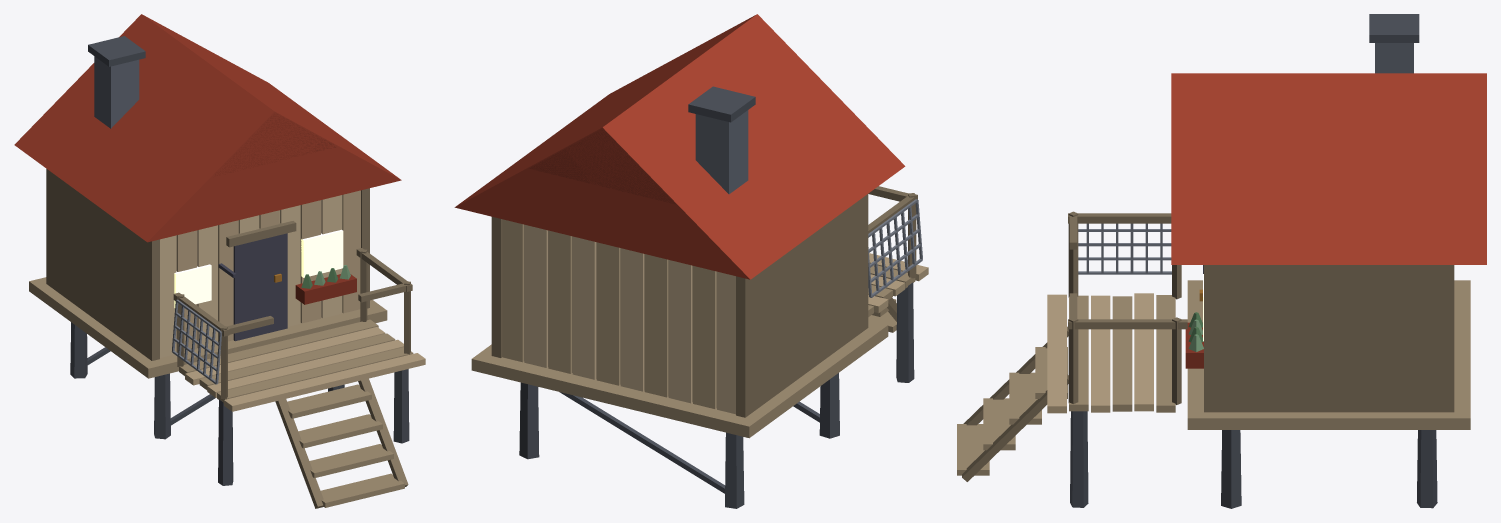
Rendered from house_porch.glb.
3 renders of one model, left to right at view 1: azimuth 30°, elevation 25°; view 2: azimuth 150°, elevation 25°; view 3: azimuth 270°, elevation 25°, orthographic. The views are drawn at different scales.
Parts seen in each view (by area): view 1: coal_d10, driftwood_d35, driftwood_d20, driftwood_d8, driftwood_l5, slate_d30, ink_l20, kindle_glow, slate_d10, coal_d25, slate_l10; view 2: coal_d10, driftwood_d35, driftwood_d8, driftwood_l5, driftwood_d20, slate_d30, coal_d25, slate_d10, slate_l10; view 3: coal_d10, driftwood_d35, driftwood_d20, driftwood_d8, slate_d30, slate_l10, slate_d10.
Part boxes in pixels (x1=…): coal_d10: x1=14, y1=14, x2=401, y2=242; driftwood_d35: x1=46, y1=169, x2=412, y2=508; driftwood_d20: x1=29, y1=277, x2=413, y2=507; driftwood_d8: x1=176, y1=190, x2=425, y2=411; driftwood_l5: x1=160, y1=195, x2=342, y2=357; slate_d30: x1=70, y1=36, x2=409, y2=485; ink_l20: x1=218, y1=233, x2=287, y2=341; kindle_glow: x1=174, y1=229, x2=343, y2=307; slate_d10: x1=94, y1=56, x2=139, y2=128; coal_d25: x1=215, y1=114, x2=356, y2=304; slate_l10: x1=172, y1=299, x2=221, y2=384; coal_d10: x1=454, y1=14, x2=905, y2=279; driftwood_d35: x1=491, y1=186, x2=917, y2=417; driftwood_d8: x1=502, y1=219, x2=928, y2=408; driftwood_l5: x1=524, y1=224, x2=735, y2=414; driftwood_d20: x1=471, y1=265, x2=915, y2=438; slate_d30: x1=519, y1=86, x2=914, y2=508; coal_d25: x1=529, y1=129, x2=675, y2=204; slate_d10: x1=695, y1=110, x2=748, y2=194; slate_l10: x1=868, y1=199, x2=922, y2=297; coal_d10: x1=1171, y1=73, x2=1486, y2=264; driftwood_d35: x1=962, y1=211, x2=1454, y2=481; driftwood_d20: x1=957, y1=280, x2=1470, y2=475; driftwood_d8: x1=1047, y1=293, x2=1153, y2=413; slate_d30: x1=1070, y1=14, x2=1437, y2=508; slate_l10: x1=1078, y1=223, x2=1171, y2=274; slate_d10: x1=1375, y1=43, x2=1413, y2=73.
Bounding box in the file's own units: 3.2 × 4 × 4.87.
